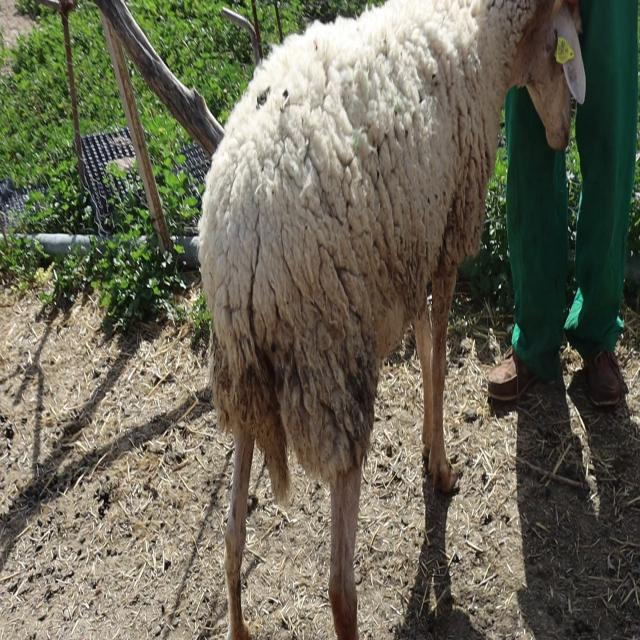Score_4: (199, 0, 585, 639)
